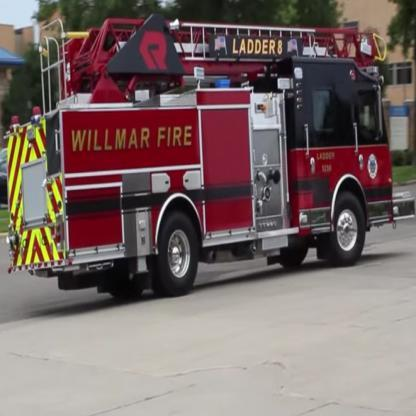fire-truck: (43, 64, 416, 415)
